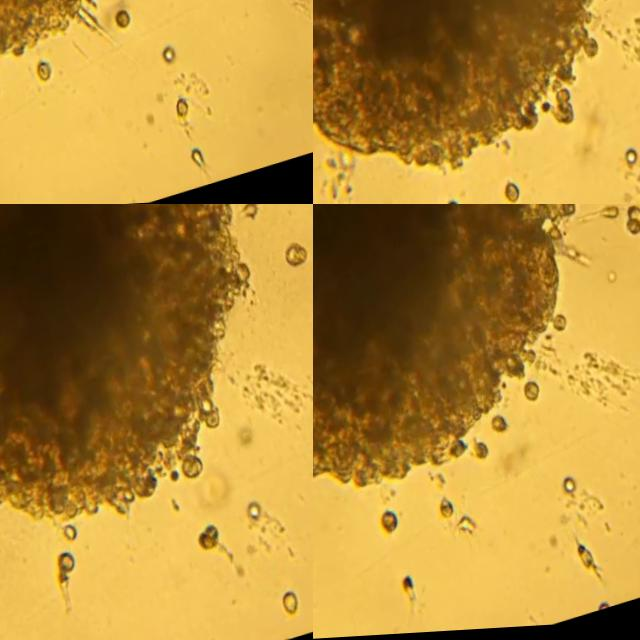cell: (574, 548, 601, 579), (199, 525, 220, 552), (377, 509, 399, 534), (438, 496, 456, 520), (627, 209, 640, 242), (238, 204, 260, 223), (520, 383, 538, 406), (57, 553, 75, 574), (285, 248, 304, 267), (189, 155, 206, 175), (281, 593, 296, 615), (455, 521, 475, 537), (502, 186, 520, 203), (35, 64, 50, 84), (399, 580, 414, 600), (160, 50, 176, 68), (114, 12, 130, 30), (490, 419, 508, 435), (175, 102, 189, 120), (598, 210, 619, 222), (475, 443, 489, 461), (246, 506, 261, 522), (561, 481, 577, 496), (624, 151, 637, 169), (60, 528, 75, 542), (57, 573, 68, 586), (596, 606, 610, 614)
tumor_mass: (313, 204, 592, 487), (313, 0, 598, 175)
